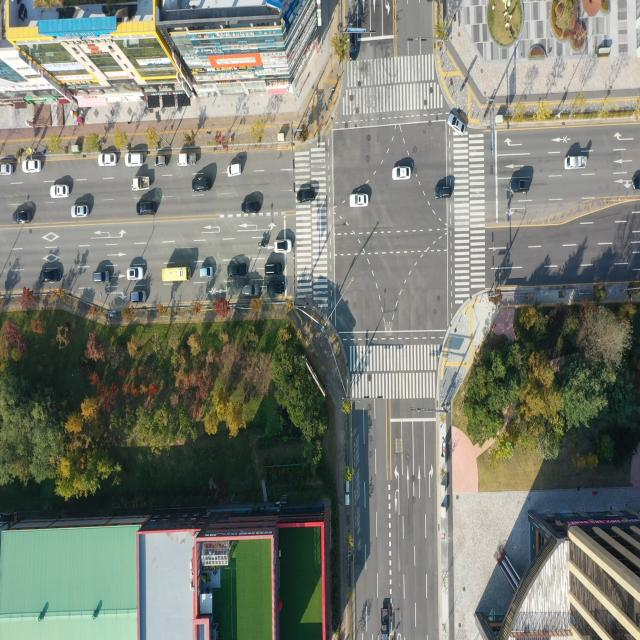car: (448, 113, 467, 135), (242, 281, 260, 300), (392, 166, 412, 182), (226, 262, 248, 276), (24, 159, 43, 175), (350, 192, 370, 207), (298, 188, 318, 203), (510, 178, 530, 193), (193, 177, 213, 192), (436, 185, 456, 200), (42, 270, 62, 284), (136, 200, 156, 214), (50, 184, 68, 199), (16, 210, 34, 225), (242, 202, 261, 216), (99, 154, 118, 168), (126, 152, 145, 166), (349, 35, 358, 64), (72, 206, 88, 220), (265, 265, 283, 277), (228, 164, 243, 178), (127, 268, 143, 281), (276, 240, 292, 253), (156, 156, 171, 169), (95, 273, 111, 285), (200, 268, 216, 280), (131, 290, 147, 302), (268, 283, 284, 295), (0, 164, 14, 176), (631, 174, 640, 188)
small_bus: (161, 266, 191, 284)
small_truck: (564, 157, 585, 172), (177, 154, 199, 168), (130, 175, 150, 190), (380, 607, 388, 640)
